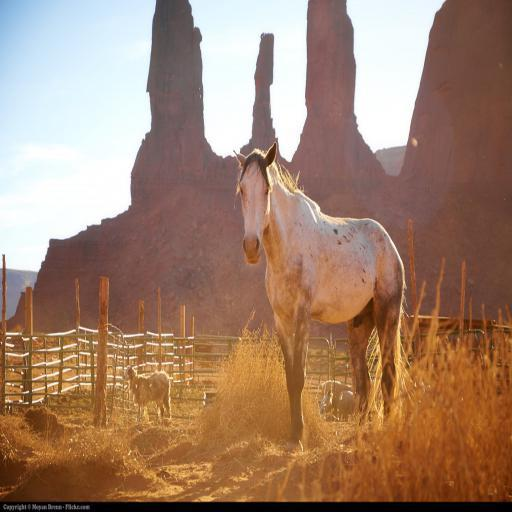horse: (231, 141, 412, 454)
